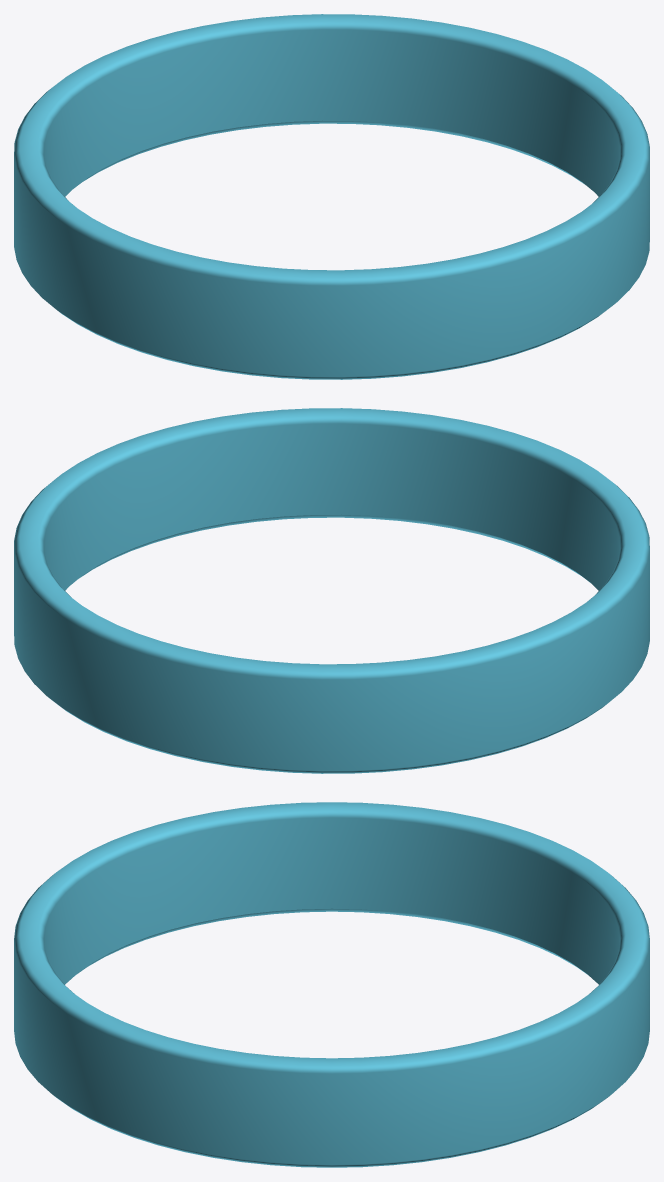
3 renders of one model, top to bottom at view 1: azimuth 30°, elevation 25°; view 2: azimuth 150°, elevation 25°; view 3: azimuth 270°, elevation 25°, orthographic.
Visible parts, largest first — view 1: seal_body; view 2: seal_body; view 3: seal_body.
Boxes of the visible parts, x1=… form: seal_body: x1=14, y1=14, x2=649, y2=379; seal_body: x1=14, y1=408, x2=649, y2=773; seal_body: x1=14, y1=802, x2=649, y2=1167.
Bounding box in the file's own units: 0.1018 × 0.018 × 0.1018.
